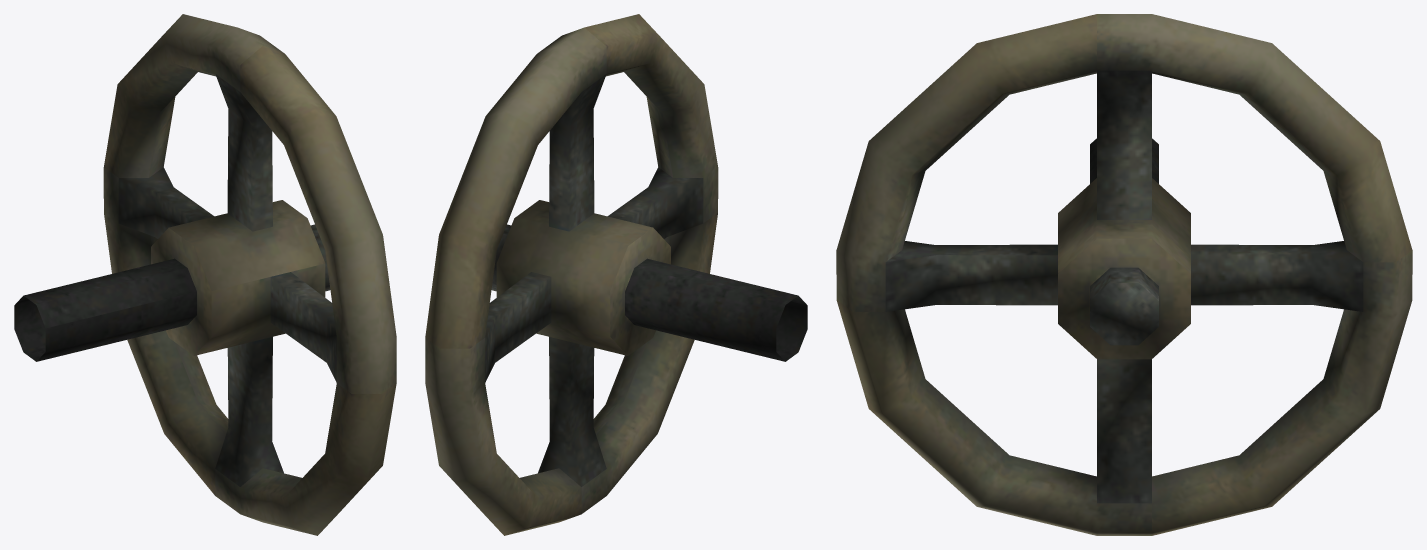
Rendered from tech_pipe_valve_handle.dae.
The picture shows the model from 3 angles, left to right: view 1: azimuth 30°, elevation 25°; view 2: azimuth 150°, elevation 25°; view 3: azimuth 270°, elevation 25°; orthographic projection. The views are drawn at different scales.
Visible parts, largest first — view 1: valve; view 2: valve; view 3: valve.
Part boxes in pixels (x1=…): valve: x1=14, y1=14, x2=396, y2=535; valve: x1=425, y1=14, x2=807, y2=535; valve: x1=836, y1=14, x2=1412, y2=535.
Size of the model in its own units: 0.3015 by 0.468 by 0.468.
1 material, 1 textured.
